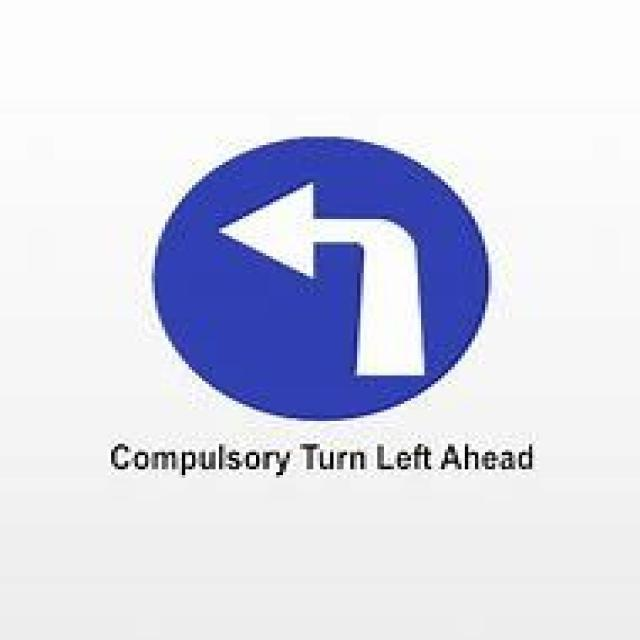compulsary turn left ahead: (152, 135, 496, 425)
